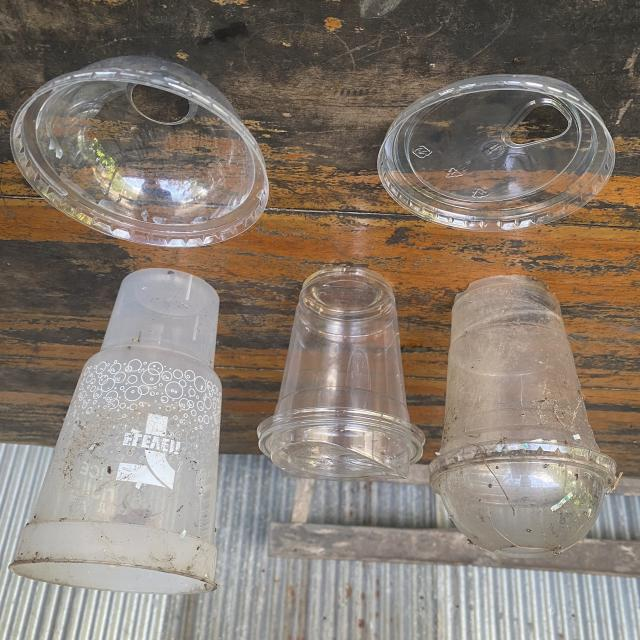plastik: (10, 268, 222, 594), (430, 276, 617, 558), (10, 56, 269, 247), (378, 74, 614, 231), (258, 267, 425, 480)
